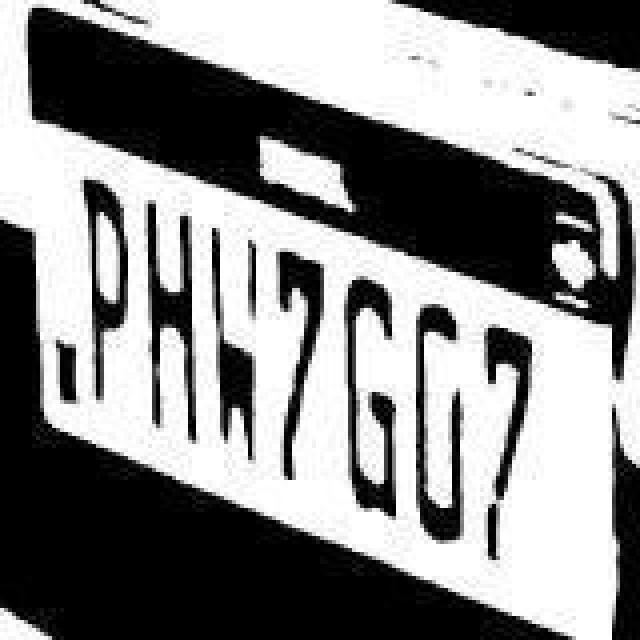7: (480, 320, 552, 568), (270, 240, 330, 496)
D: (410, 294, 470, 546)
G: (336, 272, 400, 520)
H: (140, 200, 204, 456)
P: (80, 176, 144, 408)
W: (204, 218, 260, 470)
